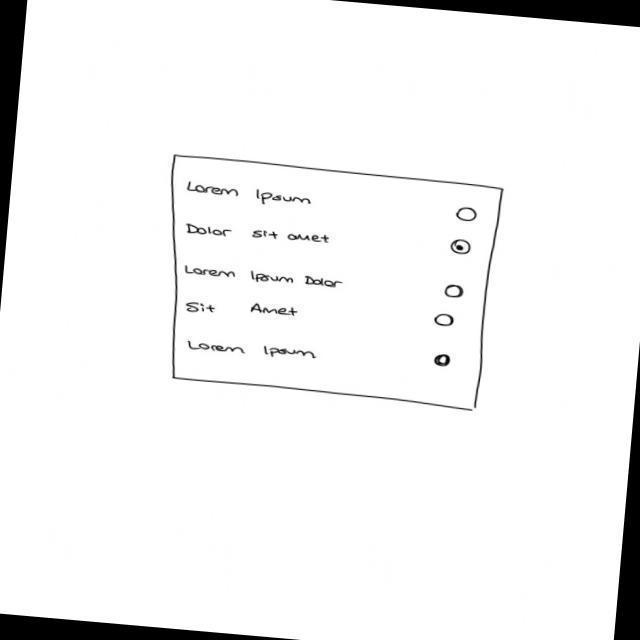container: (150, 151, 510, 414)
radio: (451, 236, 475, 262), (453, 204, 482, 225), (434, 309, 456, 336), (443, 281, 467, 303), (435, 351, 454, 376)
